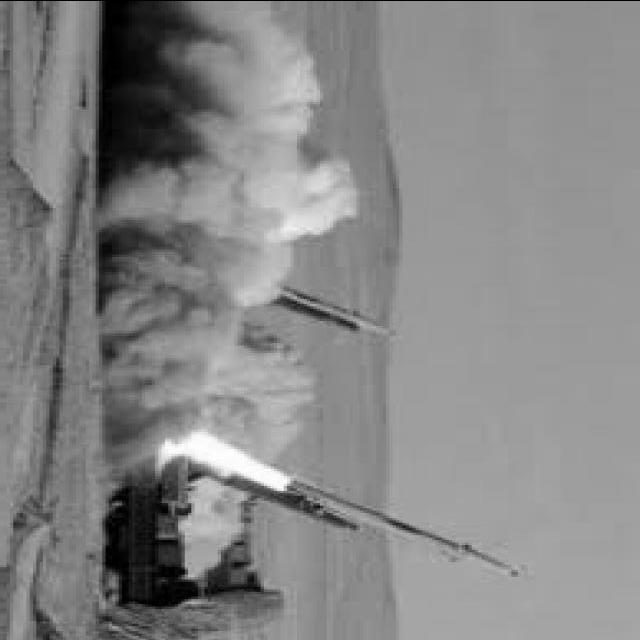missile: (282, 470, 522, 583), (271, 288, 403, 340)
